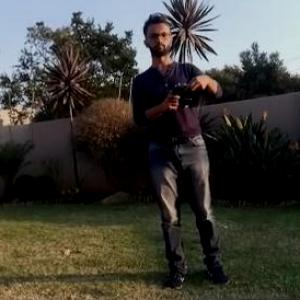follow: (129, 4, 238, 294)
